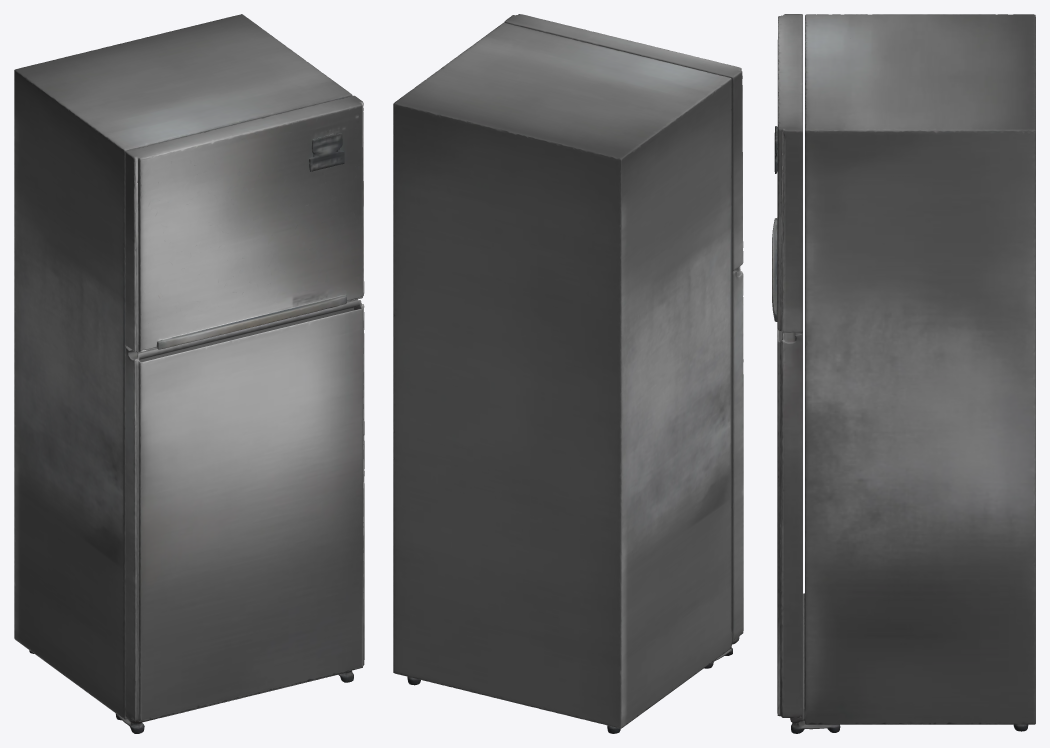
File: X9-o-qLq_XTCPMtFdMjm1.glb
The picture shows the model from 3 angles, left to right: view 1: azimuth 30°, elevation 25°; view 2: azimuth 150°, elevation 25°; view 3: azimuth 270°, elevation 25°; orthographic projection. The views are drawn at different scales.
Visible parts, largest first — view 1: world; view 2: world; view 3: world.
Boxes of the visible parts, x1,y1,x2,y2 form: world: (14, 14, 364, 733); world: (393, 14, 743, 733); world: (772, 14, 1035, 733).
Size of the model in its own units: 0.4143 by 1 by 0.3948.
Materials: 1 (1 with a texture image).
